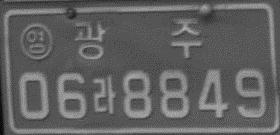0: (17, 71, 49, 120)
4: (197, 68, 228, 117)
6: (56, 71, 85, 119)
8: (157, 69, 190, 118), (122, 70, 153, 119)
9: (234, 68, 266, 119)
광주_D: (74, 19, 202, 61)
라: (90, 74, 116, 115)
영: (18, 22, 53, 61)
